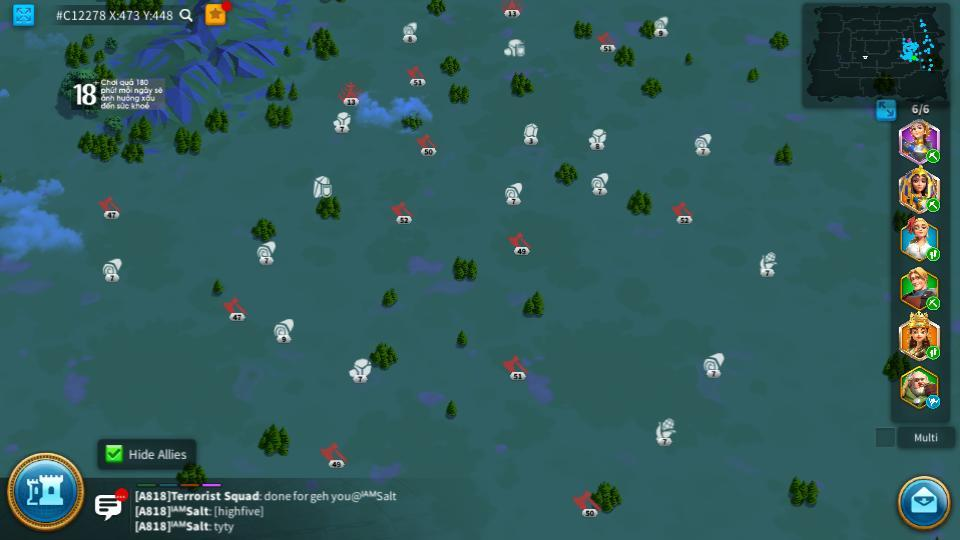gem-z-out: (522, 122, 538, 143)
march_idle: (925, 396, 942, 408)
march_marching: (925, 197, 941, 212), (925, 345, 941, 359), (925, 150, 942, 162), (923, 248, 940, 260), (925, 297, 942, 308)
